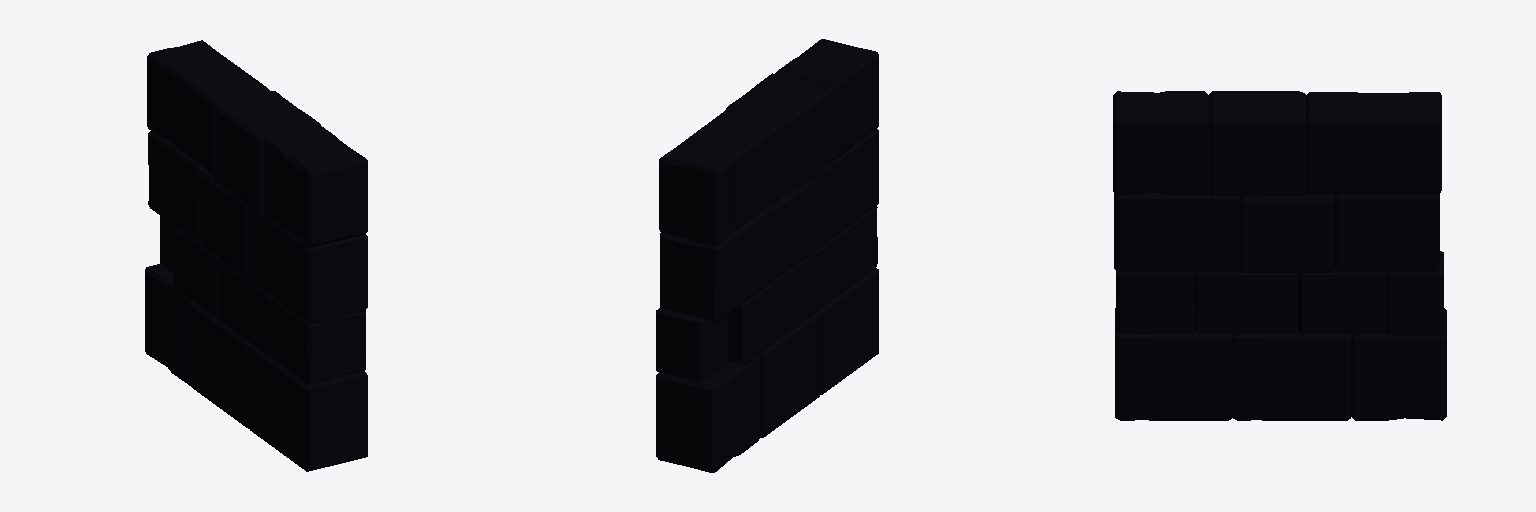
The model's file is Stairs_SideCoverWall.obj.
3 views of the same model, side by side, from view 1: azimuth 30°, elevation 25°; view 2: azimuth 150°, elevation 25°; view 3: azimuth 270°, elevation 25° (orthographic).
Parts seen in each view (by area): view 1: Stairs_SideCoverWall_Cube.069; view 2: Stairs_SideCoverWall_Cube.069; view 3: Stairs_SideCoverWall_Cube.069.
Part boxes in pixels (left/top/right/bottom): Stairs_SideCoverWall_Cube.069: left=145, top=40, right=367, bottom=471; Stairs_SideCoverWall_Cube.069: left=656, top=39, right=878, bottom=472; Stairs_SideCoverWall_Cube.069: left=1113, top=91, right=1446, bottom=420.
Size of the model in its own units: 0.4427 by 2.03 by 2.03.